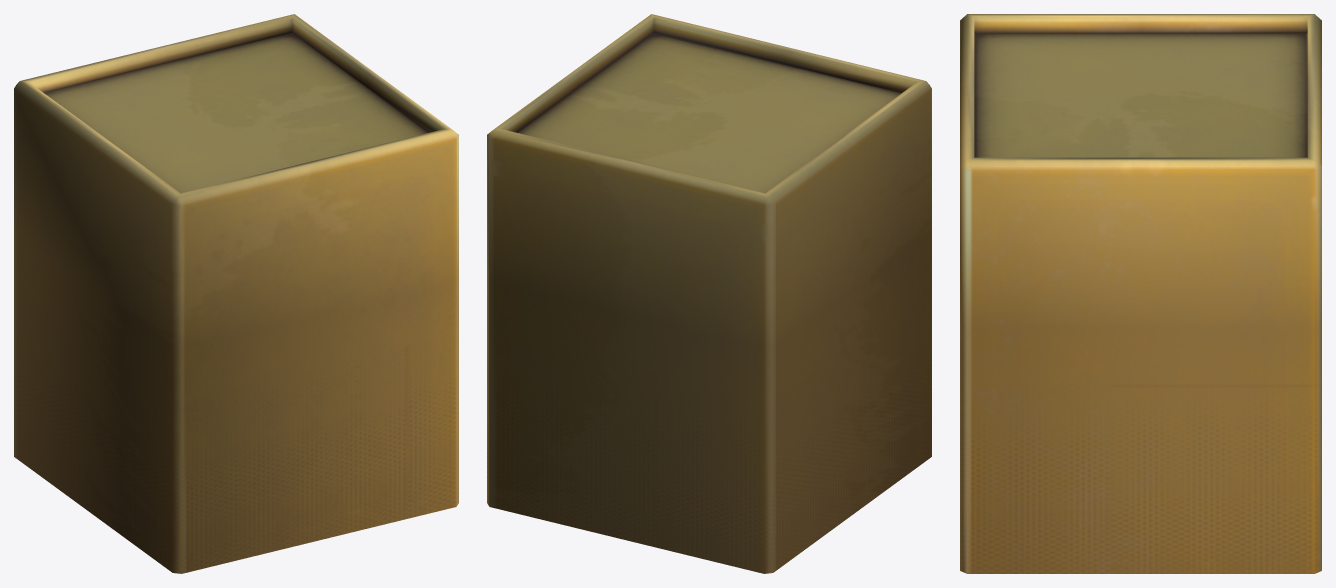
Rendered from Env_Arch_Block_01.FBX.
3 renders of one model, left to right at view 1: azimuth 30°, elevation 25°; view 2: azimuth 150°, elevation 25°; view 3: azimuth 270°, elevation 25°, orthographic. The views are drawn at different scales.
Parts seen in each view (by area): view 1: house_005; view 2: house_005; view 3: house_005.
Part boxes in pixels (<box>): house_005: <box>14,14,458,573</box>; house_005: <box>487,14,931,573</box>; house_005: <box>960,14,1321,573</box>.
Size of the model in its own units: 500 by 625 by 500.
Materials: 1 (1 with a texture image).
